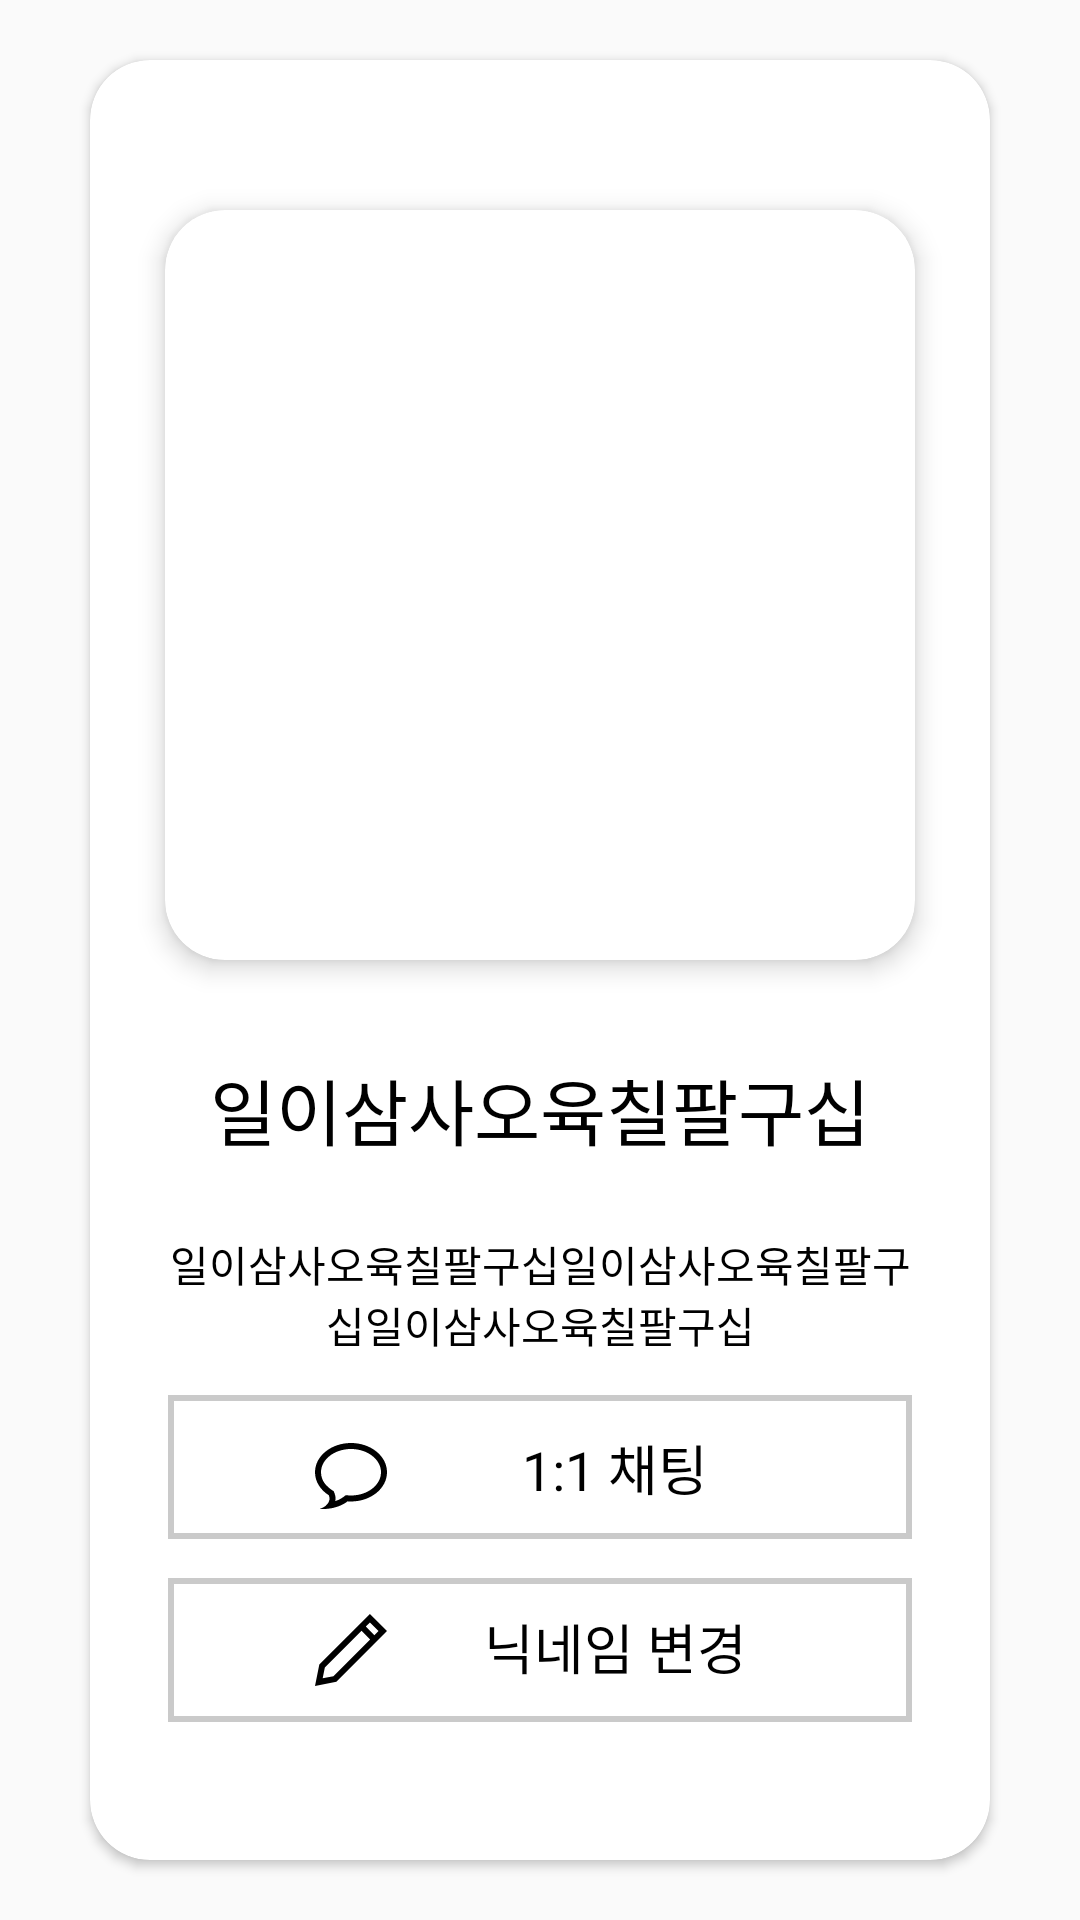

Icon bounding boxes for this 1080px x 1920px phone screenshot, format rect(x1, y1, x2, y2):
chat blank: rect(315, 1443, 387, 1509)
edit: rect(315, 1614, 387, 1686)
